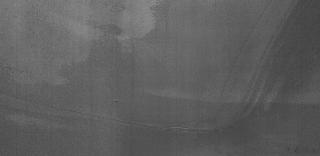scratches: (221, 0, 307, 134), (11, 92, 220, 140)
